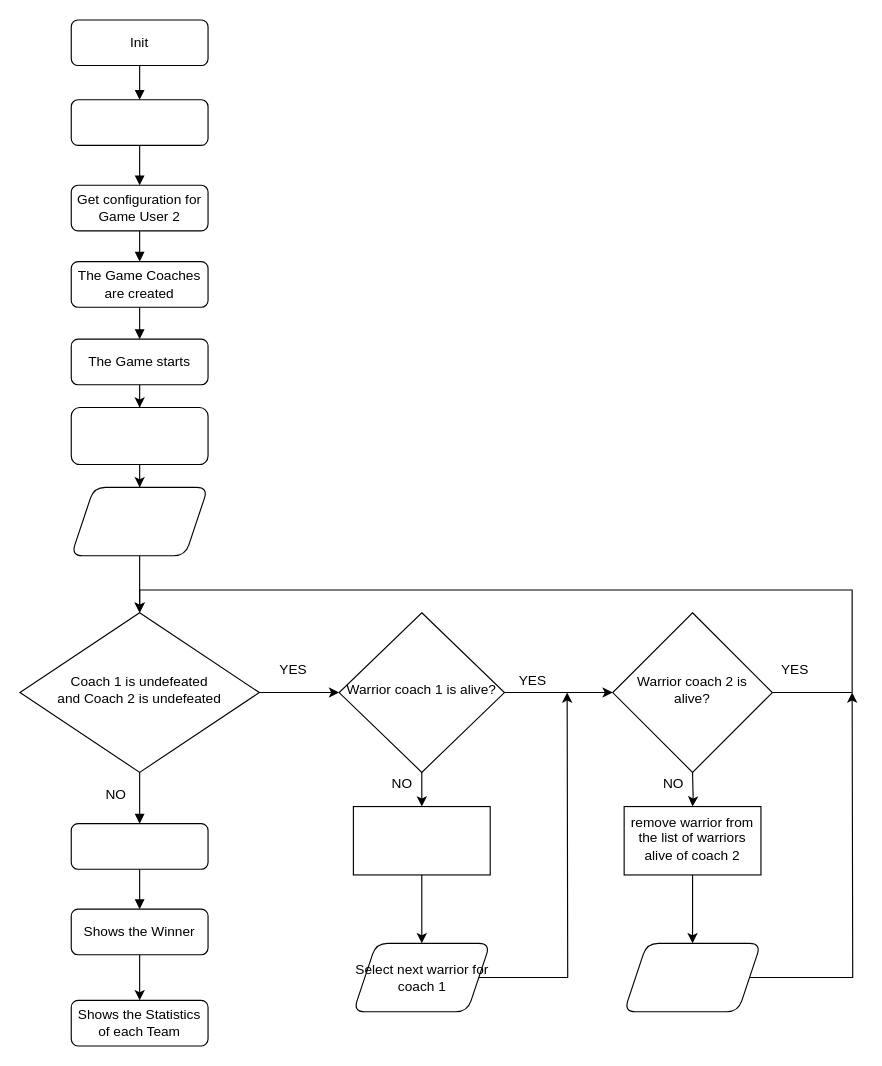
This 882x1066 diagram has some shape labels left out. Here are the shapes that lost their labels. From the top down, the centre of each, then its label:
At point 139,122: "Get configuration for Game User 1".
At point 139,435: "Shallow copy of list of warriors alive for both coaches".
At point 139,521: "Select first warrior for both coaches".
At point 139,846: "The Game ends".
At point 421,840: "remove warrior from the list of warriors alive of coach 1".
At point 692,977: "Select next warrior for coach 2".
